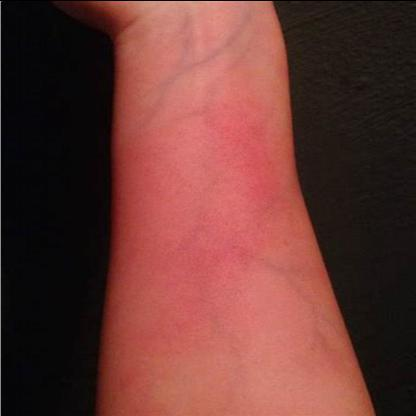Wasp: (182, 116, 284, 268)
